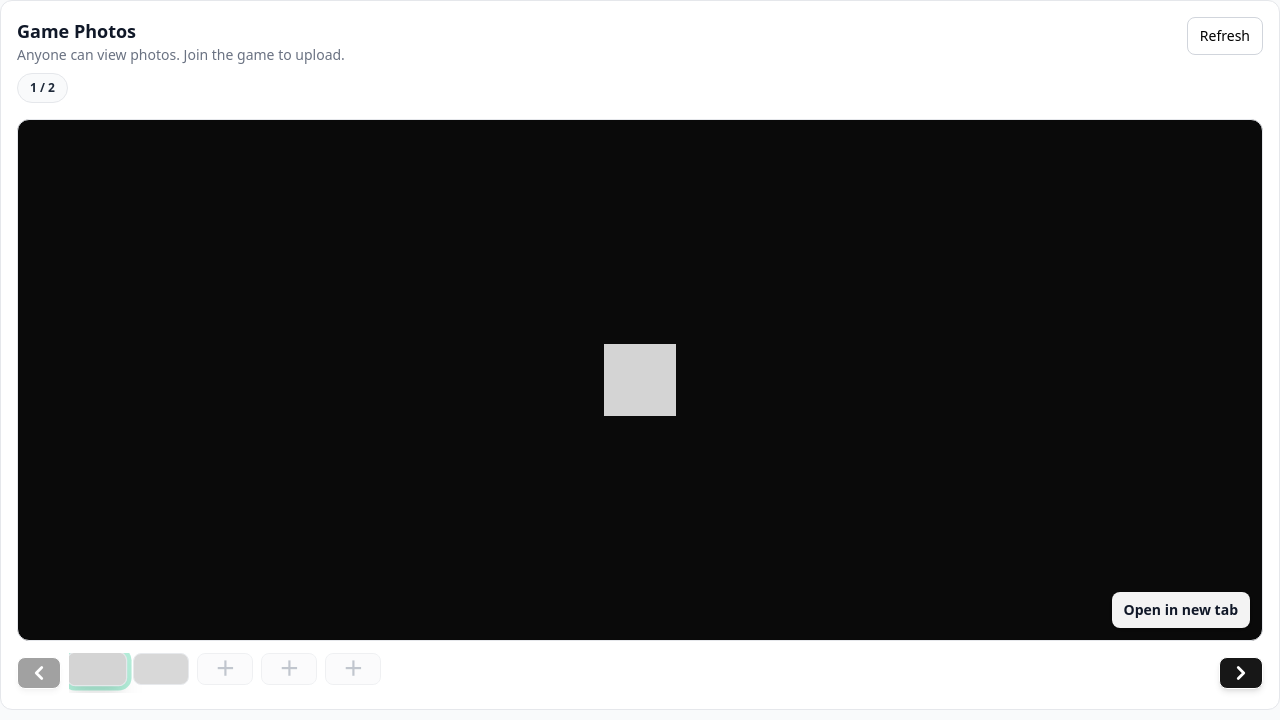
Test: PhotosPanel Component › Prev/Next arrow behavior (slot-based) › Next thumbnail button advances index and scrolls right by THUMB_W+16
Check: the text "1 / 2" is shown, box [17,73,68,103]
Click the button named "Next thumbnail". click: (1241, 673)
box: [1219,657,1263,689]
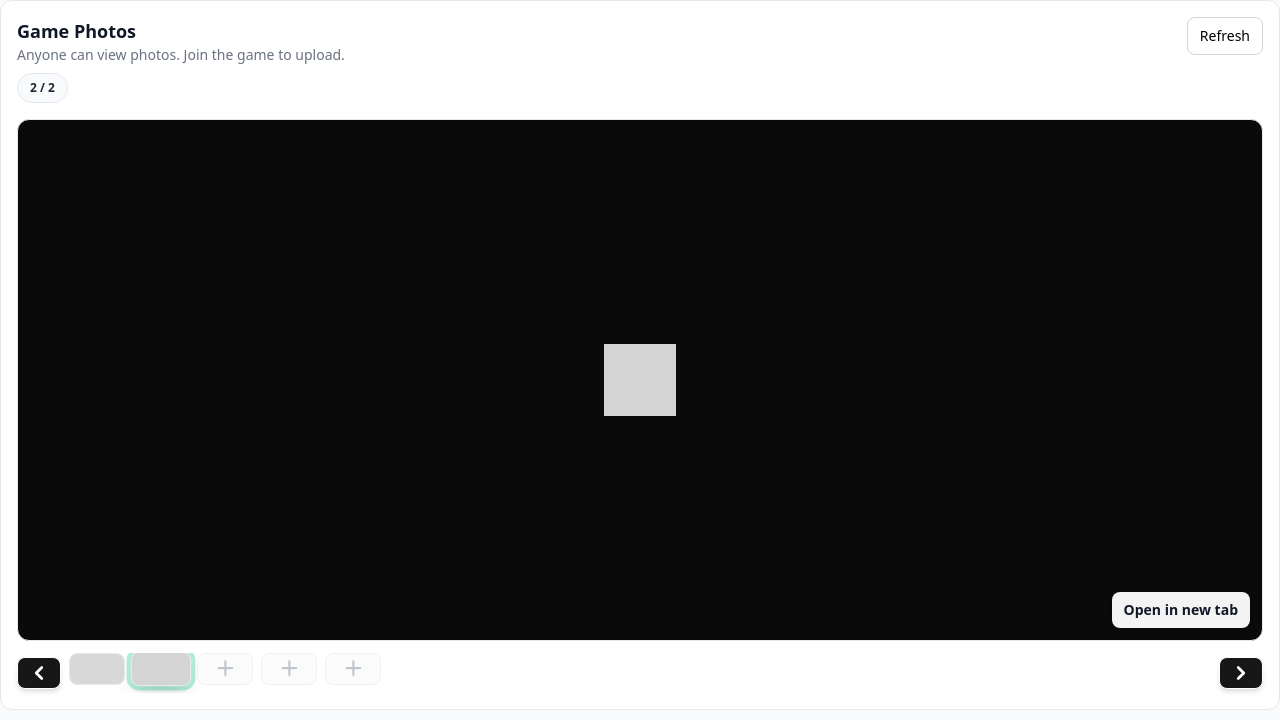
Check: the text "2 / 2" is shown, box [17,73,68,103]
